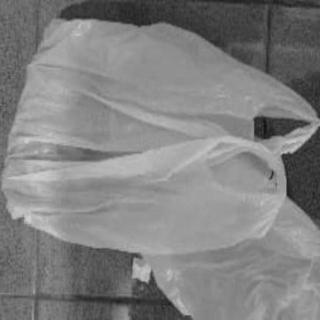objects: (2, 8, 320, 255)
